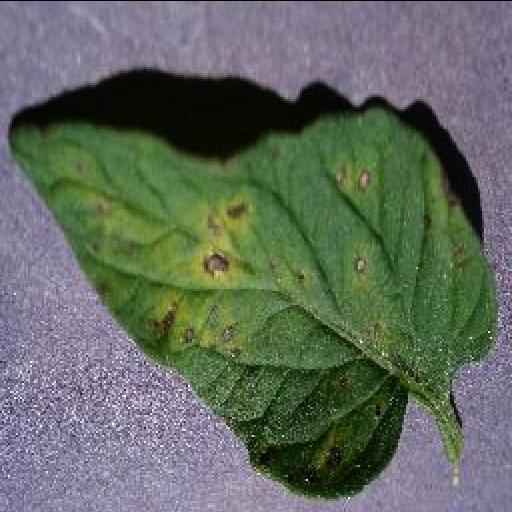disease_tomato: (8, 114, 496, 496)
